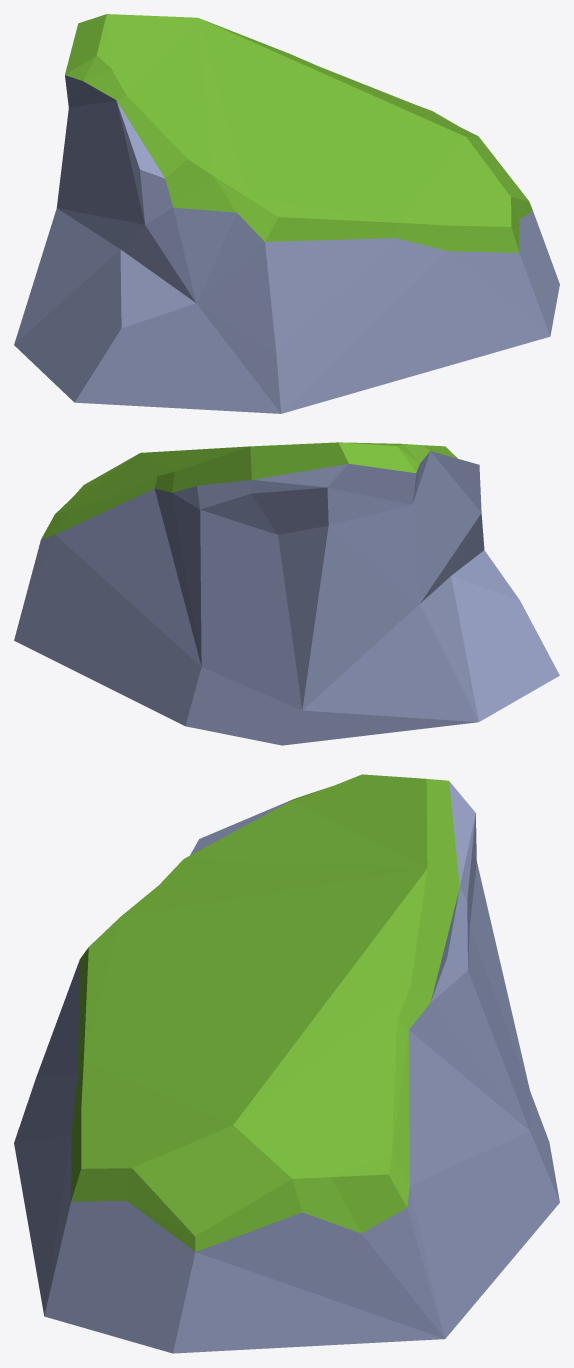
Rendered from Rock_9.fbx.
3 renders of one model, top to bottom at view 1: azimuth 30°, elevation 25°; view 2: azimuth 150°, elevation 25°; view 3: azimuth 270°, elevation 25°, orthographic. The views are drawn at different scales.
Parts seen in each view (by area): view 1: Rock_9; view 2: Rock_9; view 3: Rock_9.
Part boxes in pixels (box(x1,y1,x2,y2)): Rock_9: box(14, 14, 559, 413); Rock_9: box(14, 442, 559, 745); Rock_9: box(14, 774, 559, 1353).
Bounding box in the file's own units: 4.63 × 2.59 × 3.58.
